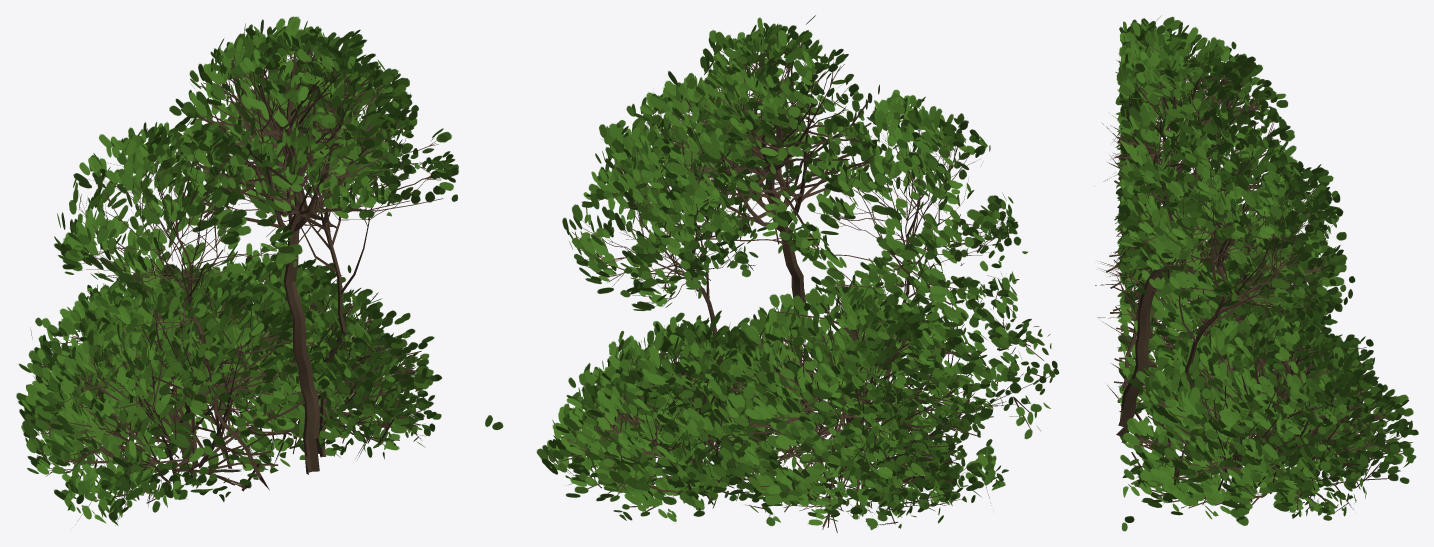
3 views of the same model, side by side, from view 1: azimuth 30°, elevation 25°; view 2: azimuth 150°, elevation 25°; view 3: azimuth 270°, elevation 25° (orthographic). The views are drawn at different scales.
Parts seen in each view (by area): view 1: oak 01.001_trunk_Mat.001_0.228; view 2: oak 01.001_trunk_Mat.001_0.228; view 3: oak 01.001_trunk_Mat.001_0.228.
Boxes of the visible parts, bbox=[...] form: oak 01.001_trunk_Mat.001_0.228: bbox=[16, 16, 503, 525]; oak 01.001_trunk_Mat.001_0.228: bbox=[536, 15, 1059, 532]; oak 01.001_trunk_Mat.001_0.228: bbox=[1094, 16, 1418, 531].
Bounding box in the file's own units: 5.27 × 5 × 3.4.
2 materials, 1 textured.
